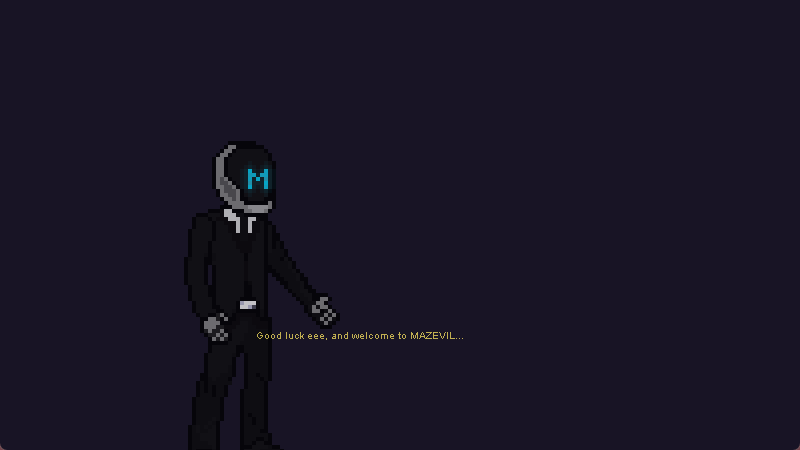next_screen_stop: (8, 6, 786, 439)
